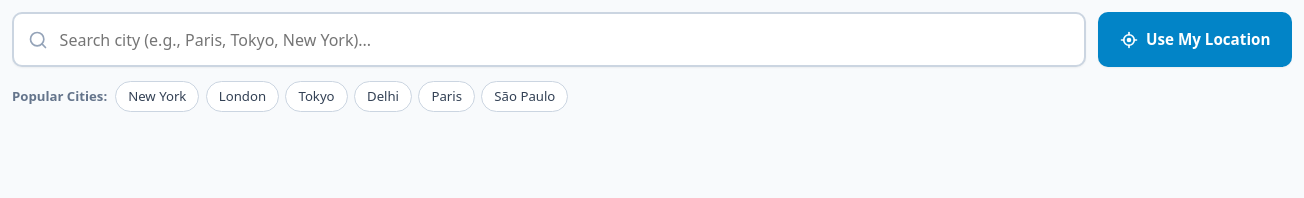
Test: SearchBar Component › navigates autocomplete suggestions with ArrowDown, ArrowUp, Enter, and Escape
This screenshot has width=1304, height=198.
Later steps or results of the test are not shown.
Type "Mad" into the dropdown with placeholder "Search city (e.g., Paris, Tokyo, New York)..." at (549, 40), box top-left (12, 12), bottom-right (1086, 67)
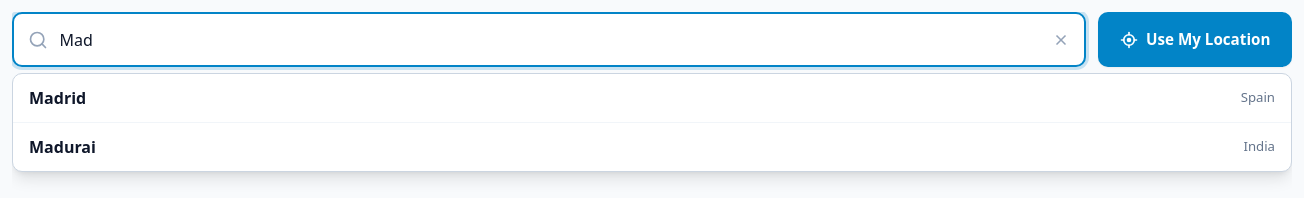
Check: the option "Madrid Spain" is shown, box top-left (13, 74), bottom-right (1291, 123)
